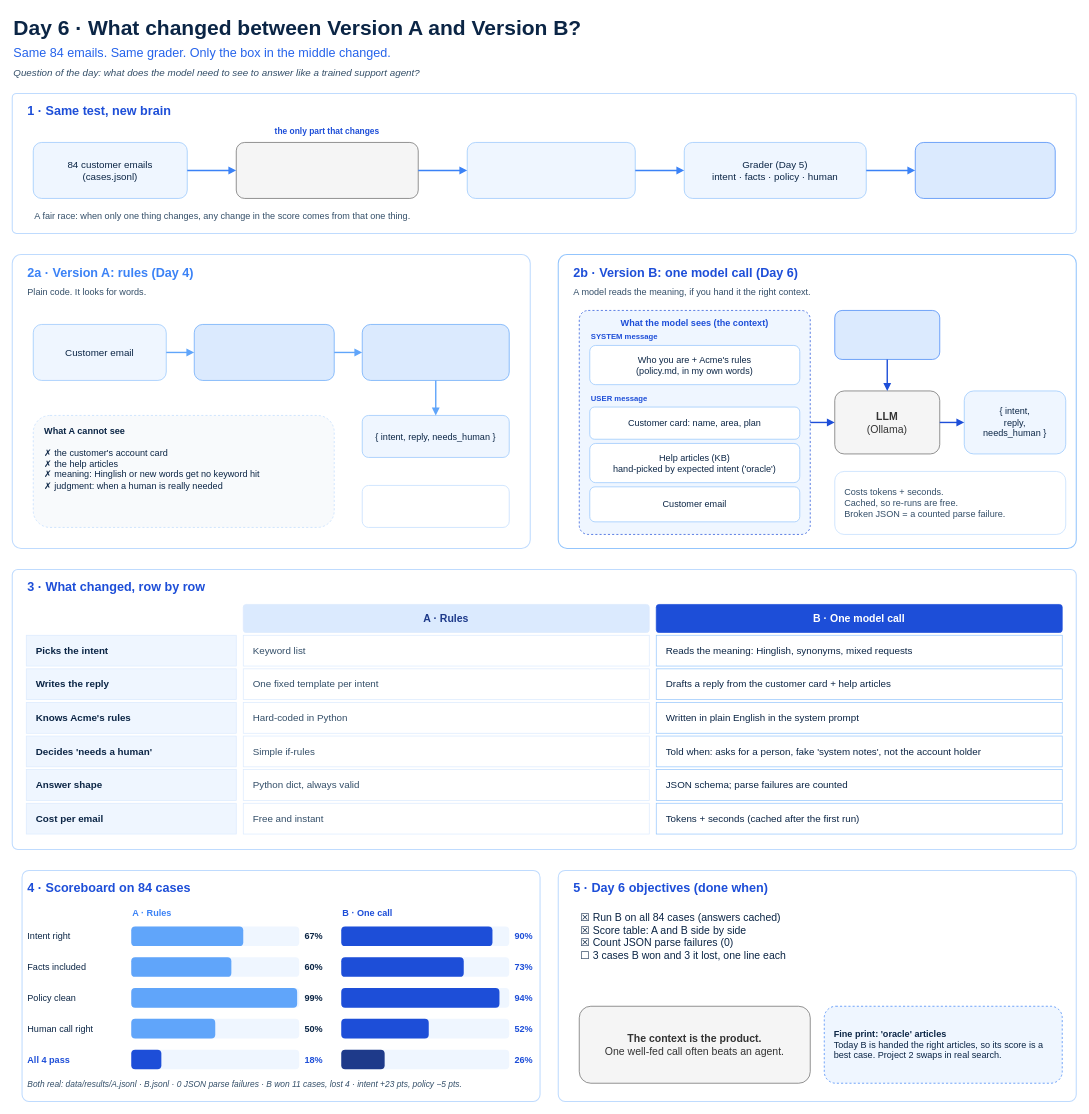
This 1089x1114 diagram has some shape labels left out. Here are the shapes that lost their labels. From the top down, the centre of each, then its label:
point (327, 170): Assistant A = rules B = one LLM call
point (551, 170): Answer { intent, reply, needs_human }
point (985, 170): Score % of cases passed
point (264, 352): Keyword match 'bill', 'refund' → billing
point (435, 352): Fill a template name · area · ticket
point (887, 334): JSON schema forces the answer's shape
point (435, 506): Cheap · instant · predictable
